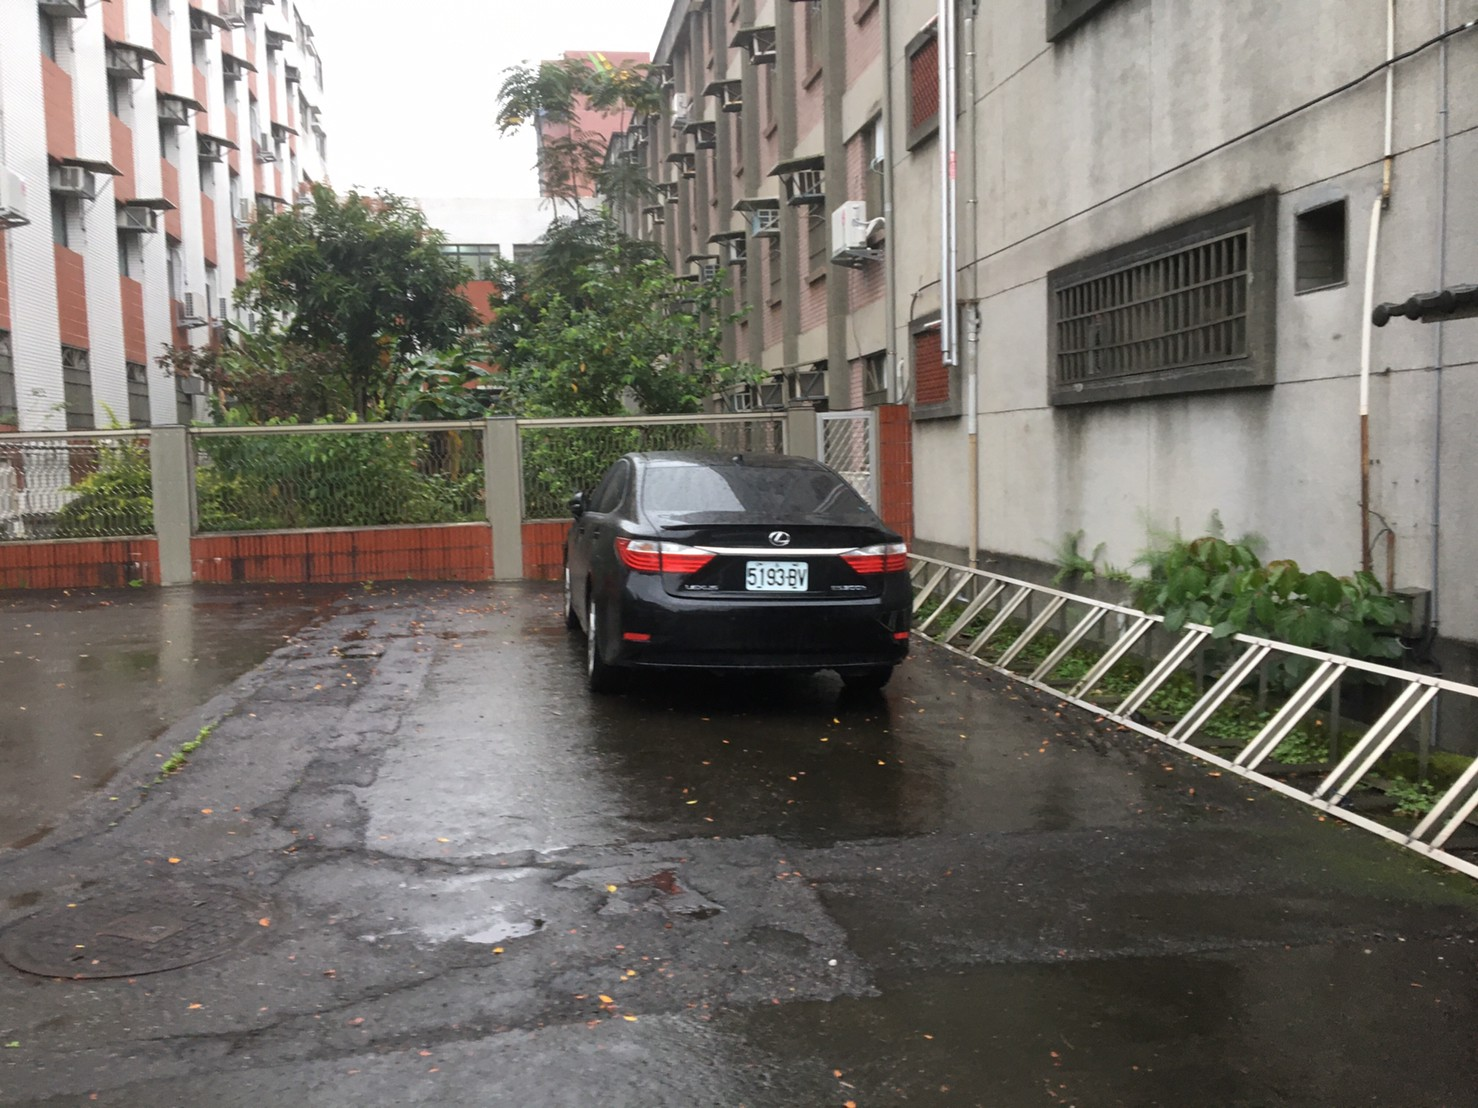LP: (740, 557, 810, 595)
